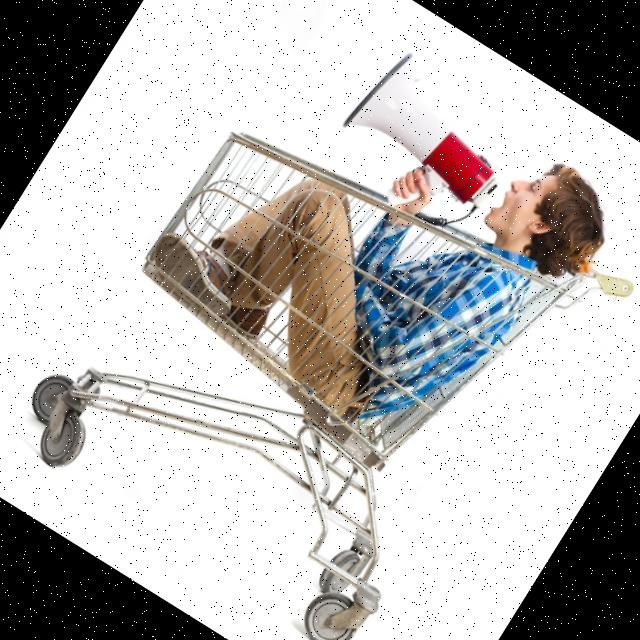Person: (132, 1, 628, 487)
